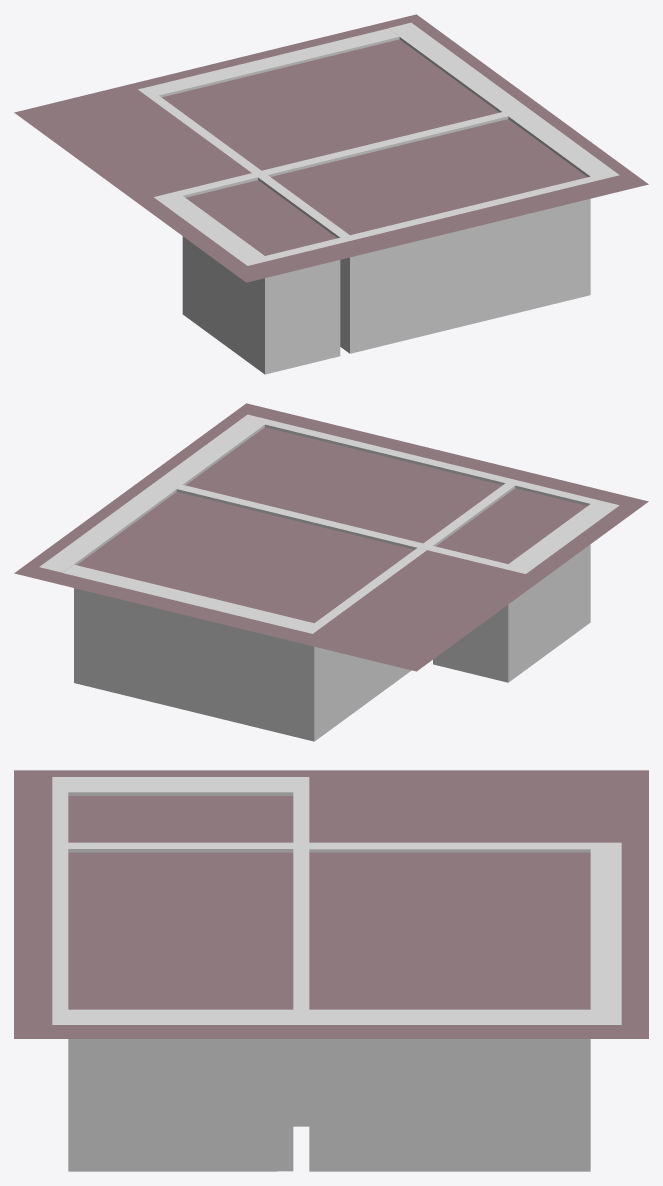
File: Map (2).fbx
The picture shows the model from 3 angles, top to bottom: view 1: azimuth 30°, elevation 25°; view 2: azimuth 150°, elevation 25°; view 3: azimuth 270°, elevation 25°; orthographic projection. The views are drawn at different scales.
Visible parts, largest first — view 1: Plane; view 2: Plane; view 3: Plane.
Part boxes in pixels (<box>): Plane: <box>14,14,648,374</box>; Plane: <box>14,403,648,741</box>; Plane: <box>14,770,648,1171</box>.
Bounding box in the file's own units: 3011 × 847 × 3011.
